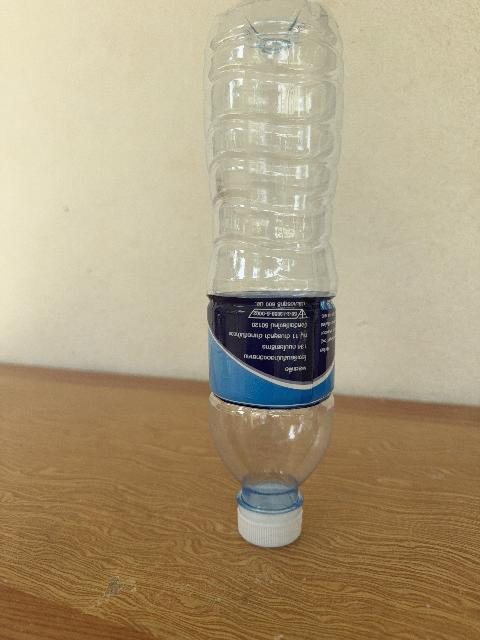bottle: (205, 0, 343, 546)
